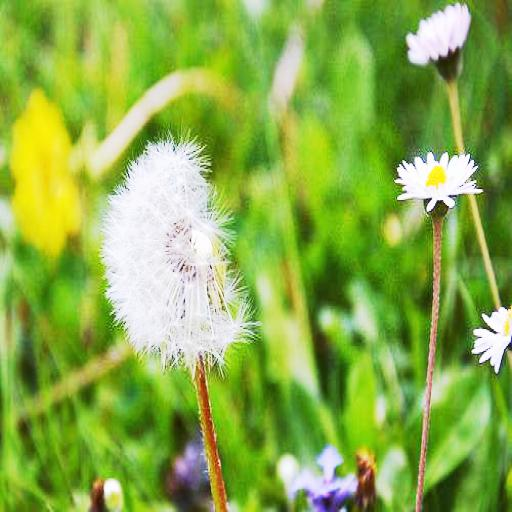dandelion: (105, 137, 262, 361), (397, 152, 476, 212), (474, 306, 512, 369)
